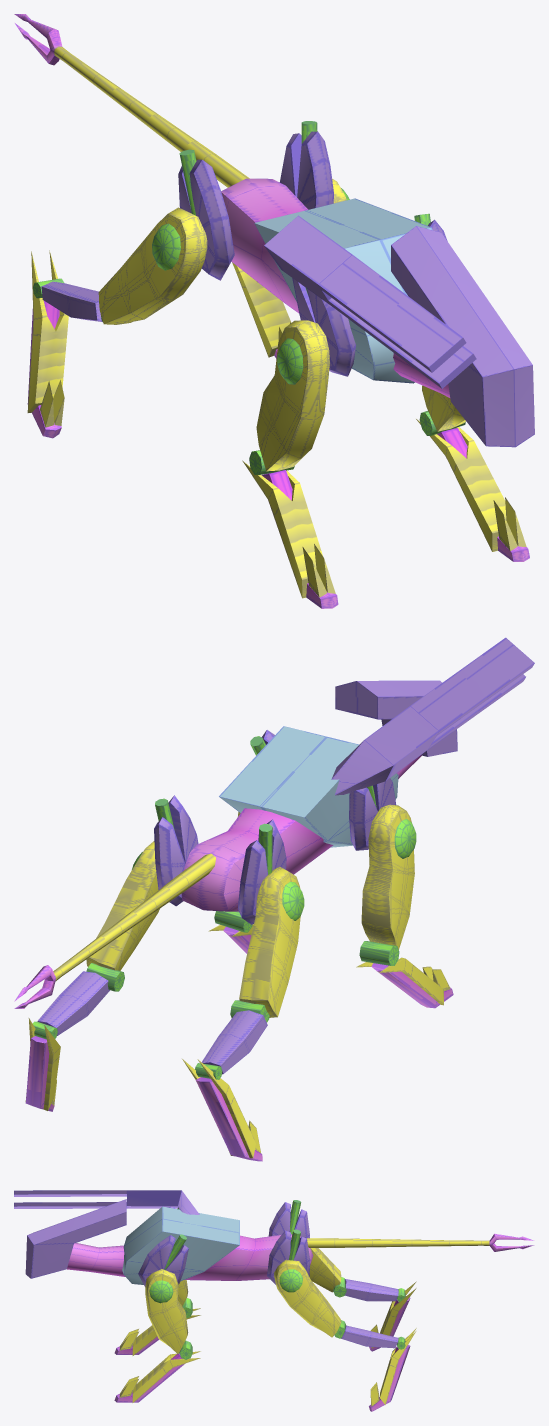
Rendered from beast.fbx.
3 views of the same model, one above another, from view 1: azimuth 30°, elevation 25°; view 2: azimuth 150°, elevation 25°; view 3: azimuth 270°, elevation 25° (orthographic). The views are drawn at different scales.
Visible parts, largest first — view 1: Box001; view 2: Box001; view 3: Box001.
Part boxes in pixels (left/top/right/bottom): Box001: left=14, top=14, right=534, bottom=608; Box001: left=14, top=637, right=534, bottom=1161; Box001: left=14, top=1190, right=534, bottom=1411.
Bounding box in the file's own units: 21.52 × 71.61 × 27.56.
